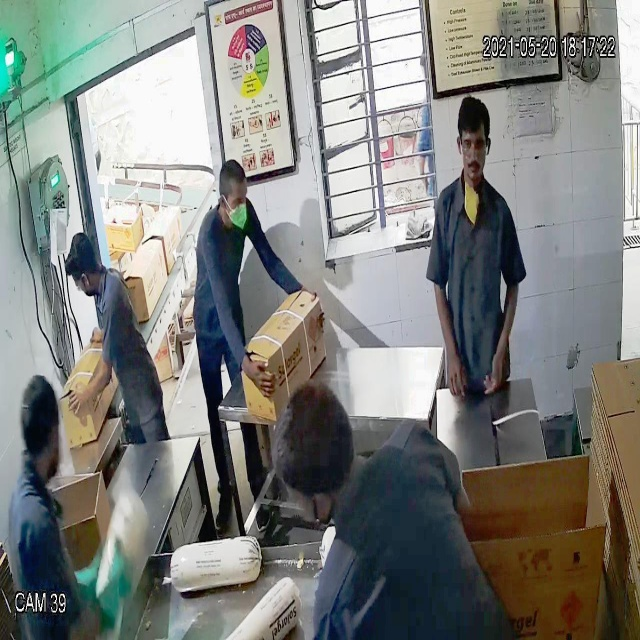Gafas: (454, 130, 494, 161)
Sin_gafas: (217, 187, 250, 214)
